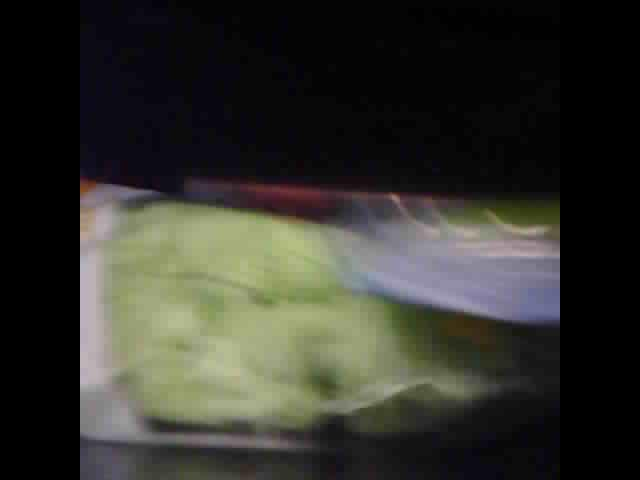florette: (79, 163, 558, 457)
